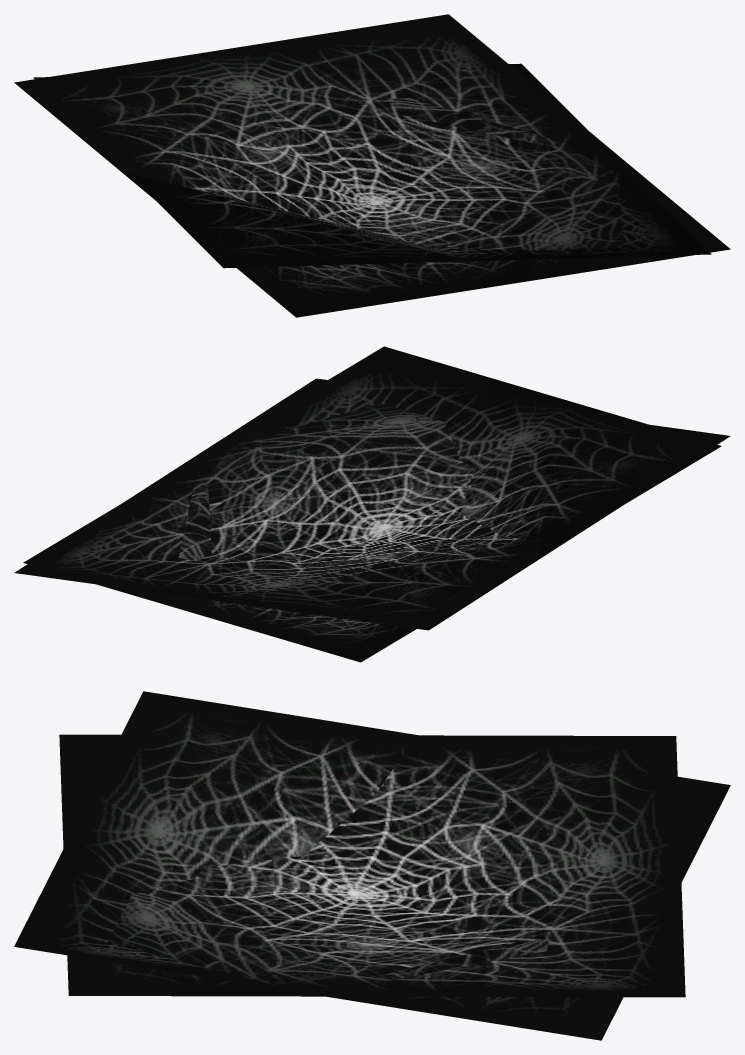
File: DWARF_PALACE_SPIDERWEB12.fbx
3 views of the same model, one above another, from view 1: azimuth 30°, elevation 25°; view 2: azimuth 150°, elevation 25°; view 3: azimuth 270°, elevation 25° (orthographic). The views are drawn at different scales.
Parts seen in each view (by area): view 1: DWARF_PALACE_SPIDERWEB12; view 2: DWARF_PALACE_SPIDERWEB12; view 3: DWARF_PALACE_SPIDERWEB12.
Boxes of the visible parts, left/top/right/bottom form: DWARF_PALACE_SPIDERWEB12: left=14, top=14, right=730, bottom=317; DWARF_PALACE_SPIDERWEB12: left=14, top=346, right=730, bottom=662; DWARF_PALACE_SPIDERWEB12: left=14, top=691, right=730, bottom=1040.
Bounding box in the file's own units: 142233 × 27736 × 165747.
1 material, 1 textured.
